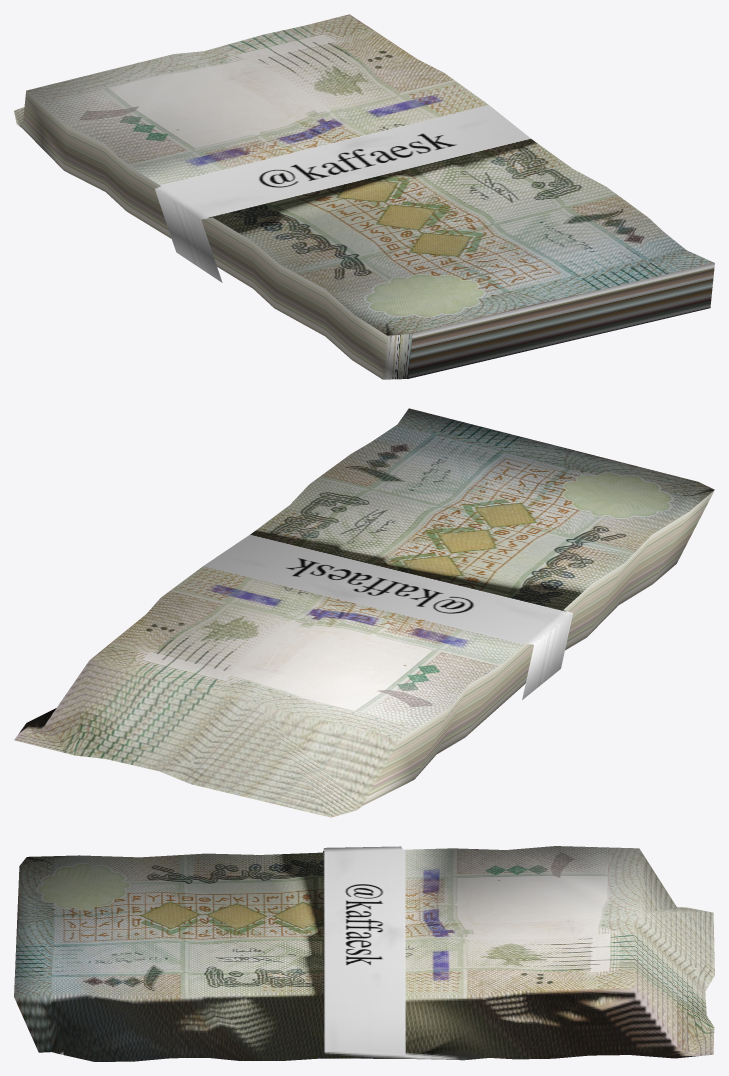
The model's file is stack.gltf.
3 views of the same model, one above another, from view 1: azimuth 30°, elevation 25°; view 2: azimuth 150°, elevation 25°; view 3: azimuth 270°, elevation 25° (orthographic). The views are drawn at different scales.
Visible parts, largest first — view 1: stack; view 2: stack; view 3: stack.
Part boxes in pixels (bbox=[...]): stack: bbox=[14, 14, 714, 379]; stack: bbox=[14, 408, 714, 817]; stack: bbox=[14, 846, 714, 1061].
Bounding box in the file's own units: 3.01 × 0.4931 × 5.43.
Materials: 1 (1 with a texture image).
